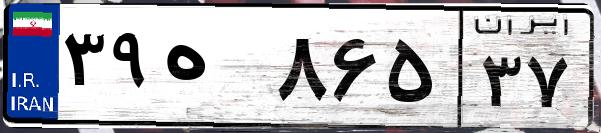3: (57, 26, 110, 100), (475, 38, 525, 113)
5: (385, 28, 445, 110)
6: (330, 28, 385, 110)
7: (525, 38, 570, 115)
8: (270, 28, 330, 110)
9: (110, 28, 158, 98)
ه: (158, 20, 270, 120)
